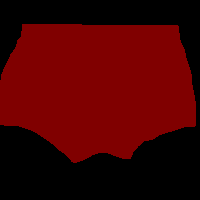mutande: (0, 24, 196, 163)
